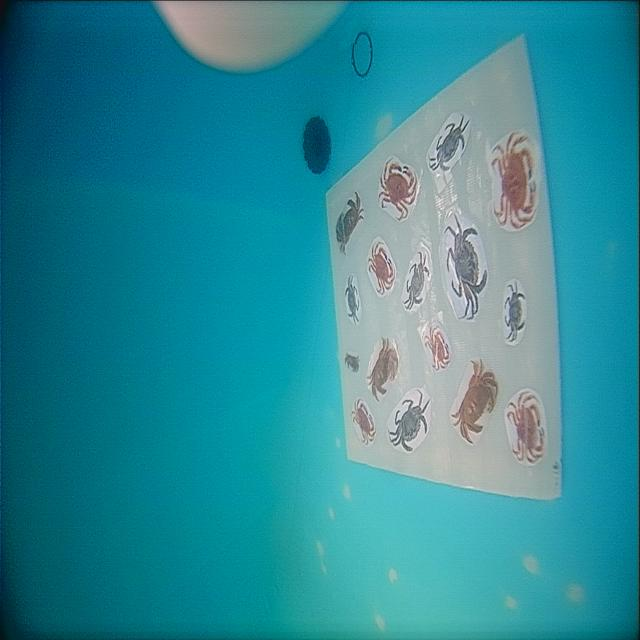GreenCrab: (445, 214, 487, 318), (389, 392, 430, 451), (430, 116, 469, 169), (404, 251, 429, 309), (504, 283, 525, 342)
